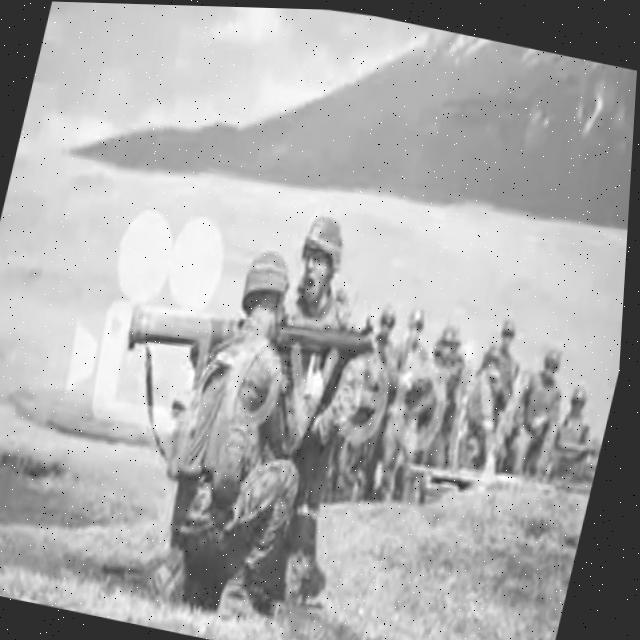rocket: (127, 275, 385, 394)
